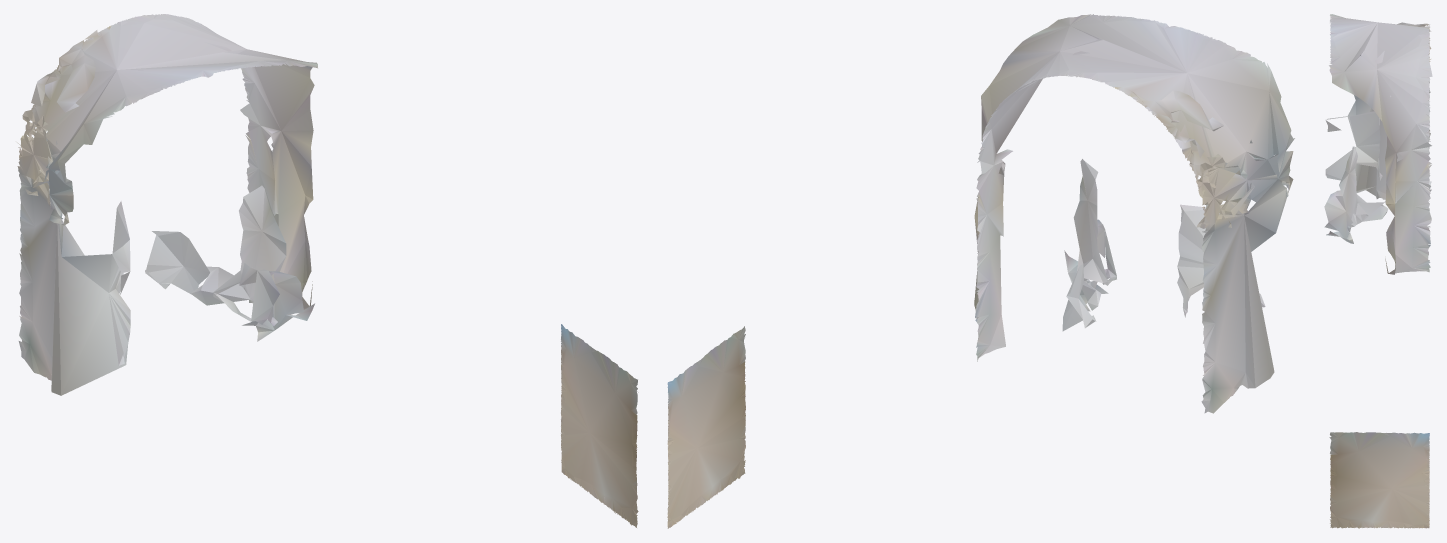
3 views of the same model, side by side, from view 1: azimuth 30°, elevation 25°; view 2: azimuth 150°, elevation 25°; view 3: azimuth 270°, elevation 25° (orthographic). The views are drawn at different scales.
Bounding box in the file's own units: 8.54 × 8.04 × 2.19.
